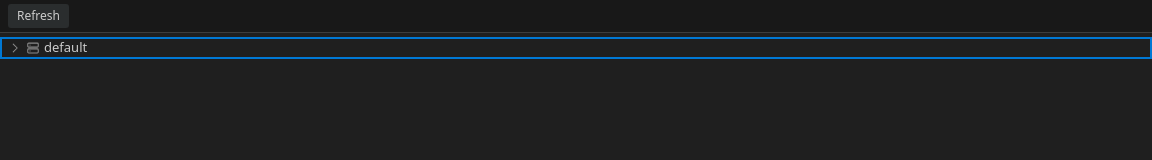
Test case: TagTree › moves with the arrows, opens with Enter, collapses with Left
The width and height of the screenshot is (1152, 160).
Press ArrowRight in the list item, box [8,38,87,56]
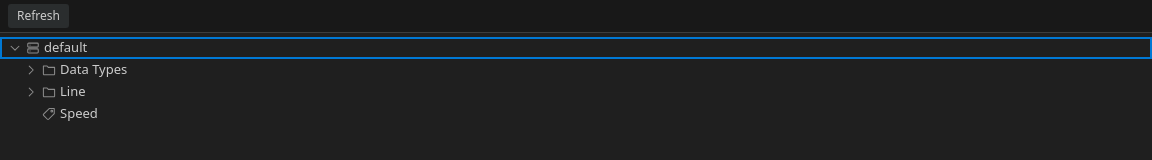
Expected: the list item "Speed" is shown, [42,104,98,122]
Click the list item "Line" at x=55, y=91, box [24,82,86,100]
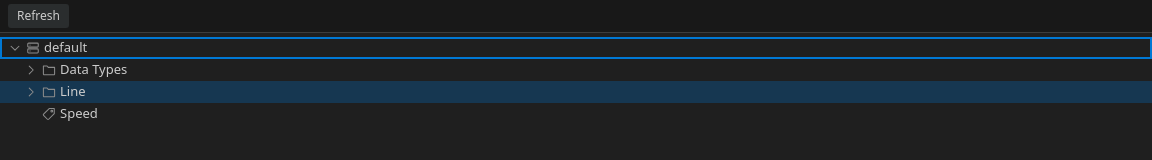
Press ArrowDown in the list item "Line", box [0,81,1151,103]
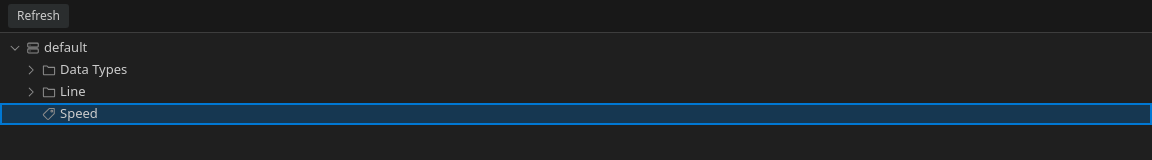
Expected: the list item "Speed" is selected
Expected: the list item "Speed" has attribute tabindex="0"
Expected: the list item "Line" has attribute tabindex="-1", [24,82,86,100]
Press Enter in the list item "Speed", box [0,103,1151,125]
Press ArrowLeft in the list item "Speed", box [0,103,1151,125]
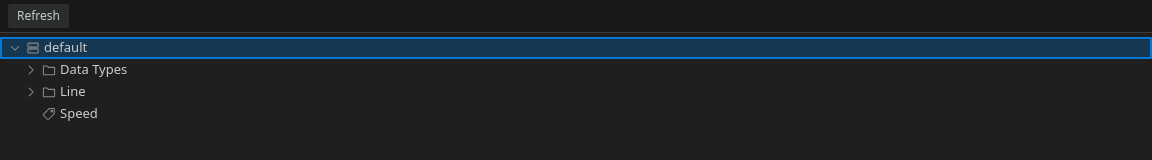
Expected: the list item "default" is selected
Press ArrowLeft in the list item "default", box [0,37,1151,59]
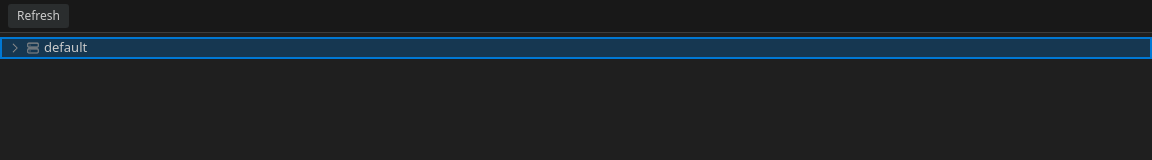
Expected: the list item is collapsed, [0,37,1151,59]
Expected: the number of list items is 1, [0,37,1151,59]
